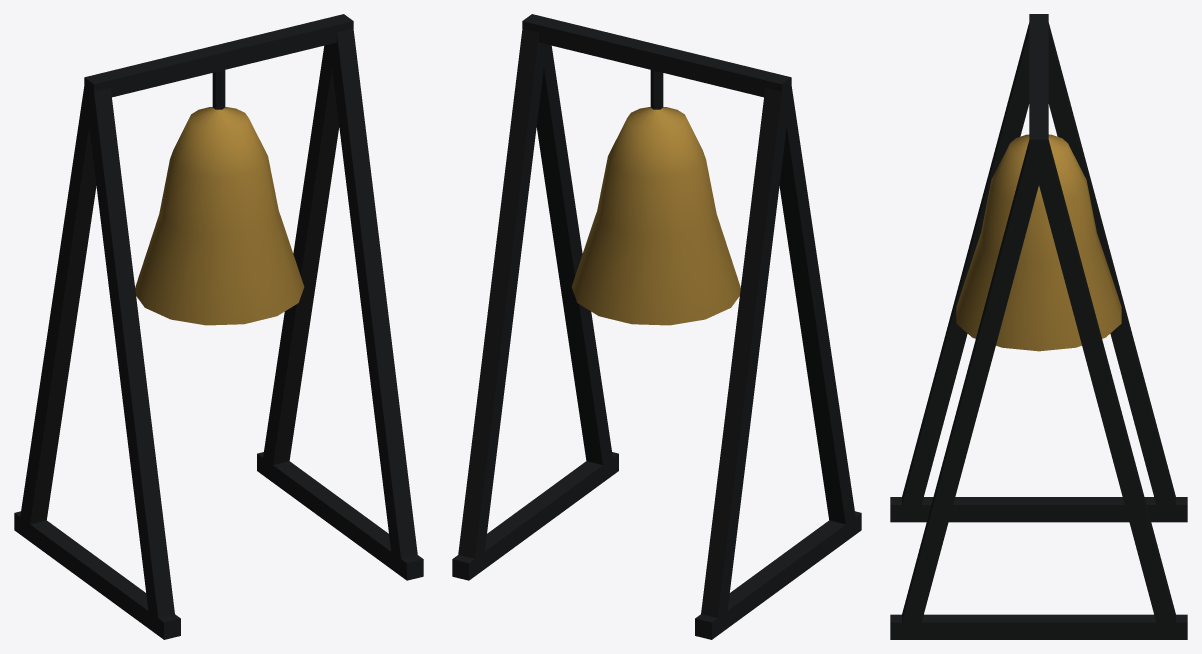
File: monument.bell_stand.brass.glb
3 views of the same model, side by side, from view 1: azimuth 30°, elevation 25°; view 2: azimuth 150°, elevation 25°; view 3: azimuth 270°, elevation 25° (orthographic).
Visible parts, largest first — view 1: monument_bell_stand_brass; view 2: monument_bell_stand_brass; view 3: monument_bell_stand_brass.
Part boxes in pixels (x1,y1,x2,y2): monument_bell_stand_brass: (14,14,423,639); monument_bell_stand_brass: (452,14,861,639); monument_bell_stand_brass: (890,14,1187,639).
Size of what is drawn, in the model's own units: 0.7 by 1.3 by 0.7.
